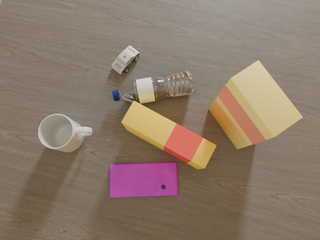bottle: (113, 71, 194, 104)
box: (209, 61, 302, 149), (121, 101, 216, 169)
cup: (38, 114, 92, 152)
phone: (110, 162, 178, 197)
toy_car: (112, 46, 140, 75)
